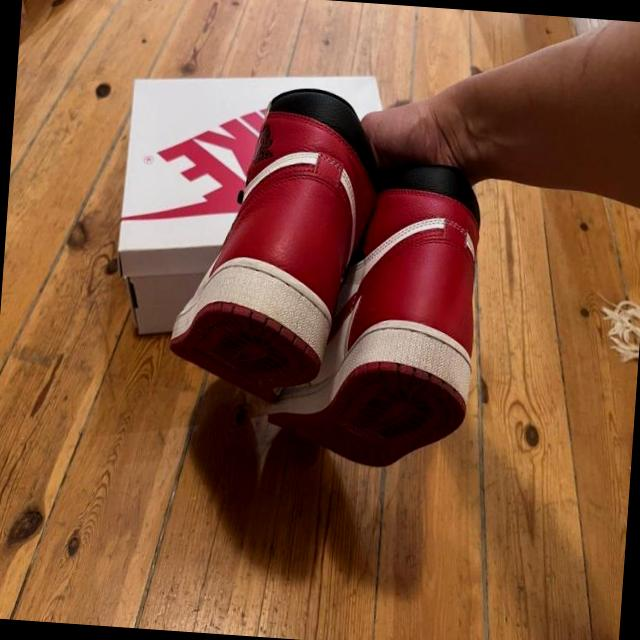nike_original_jordan: (162, 80, 387, 412), (264, 150, 488, 477)
